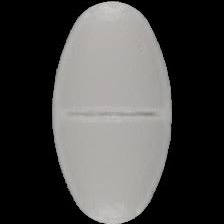54868-3726: (0, 0, 224, 224)
